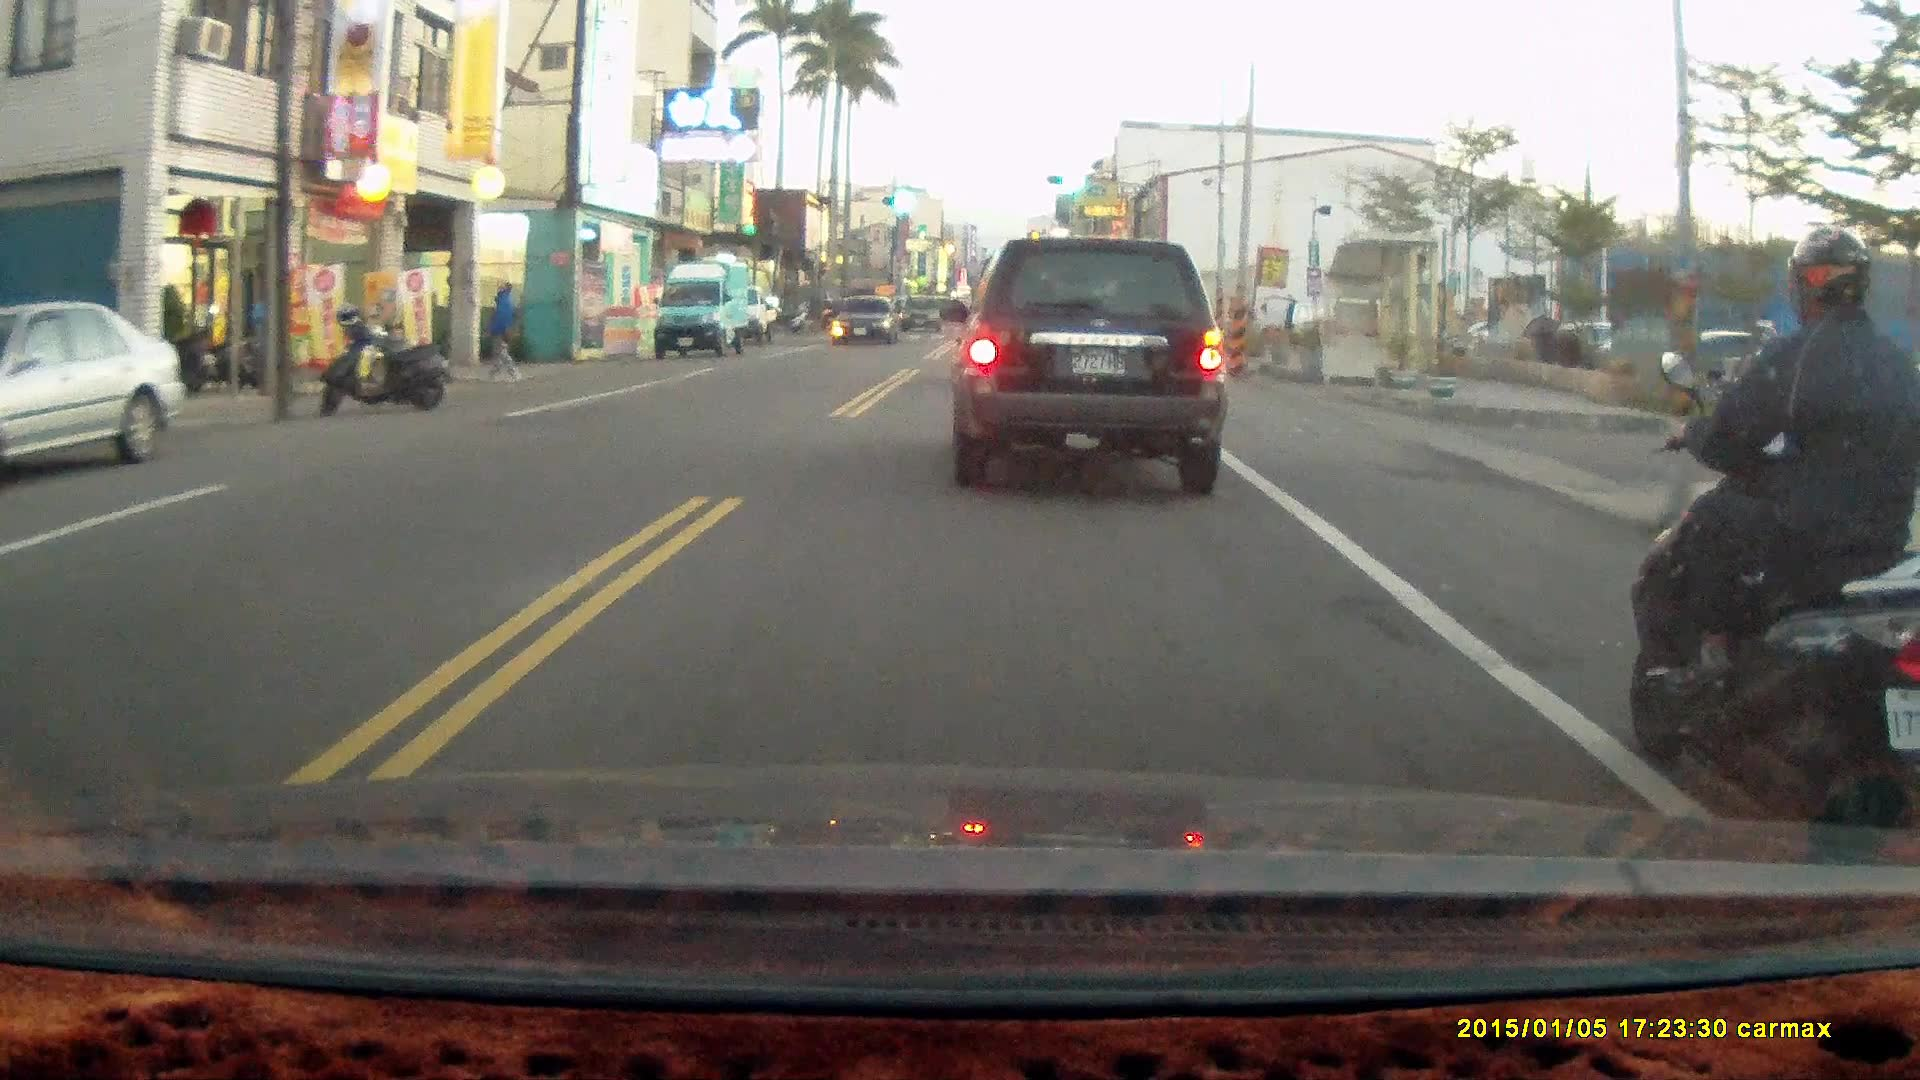pedestrian: (486, 279, 521, 381)
rider: (1625, 224, 1920, 860)
vehicle: (947, 236, 1229, 505), (1, 299, 183, 490), (655, 255, 756, 364), (830, 296, 905, 347)
